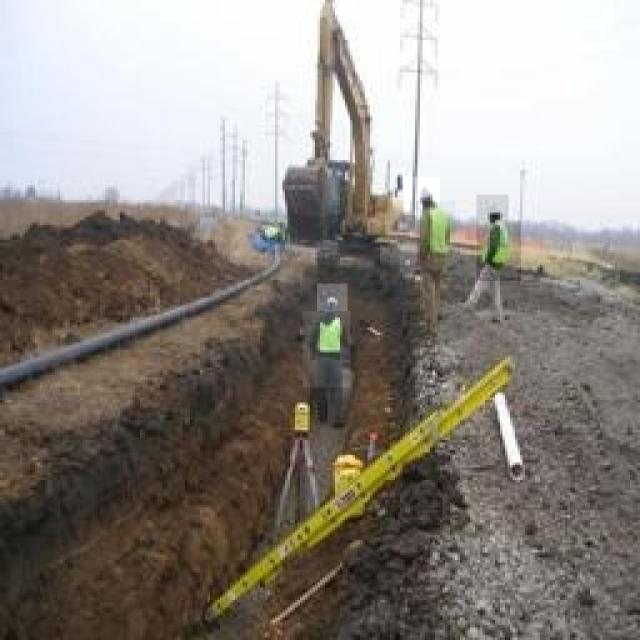Helmet: (404, 177, 440, 215), (476, 195, 508, 231), (317, 284, 347, 322)
Safety Vest: (302, 311, 350, 388), (416, 201, 456, 273), (477, 221, 521, 282)
